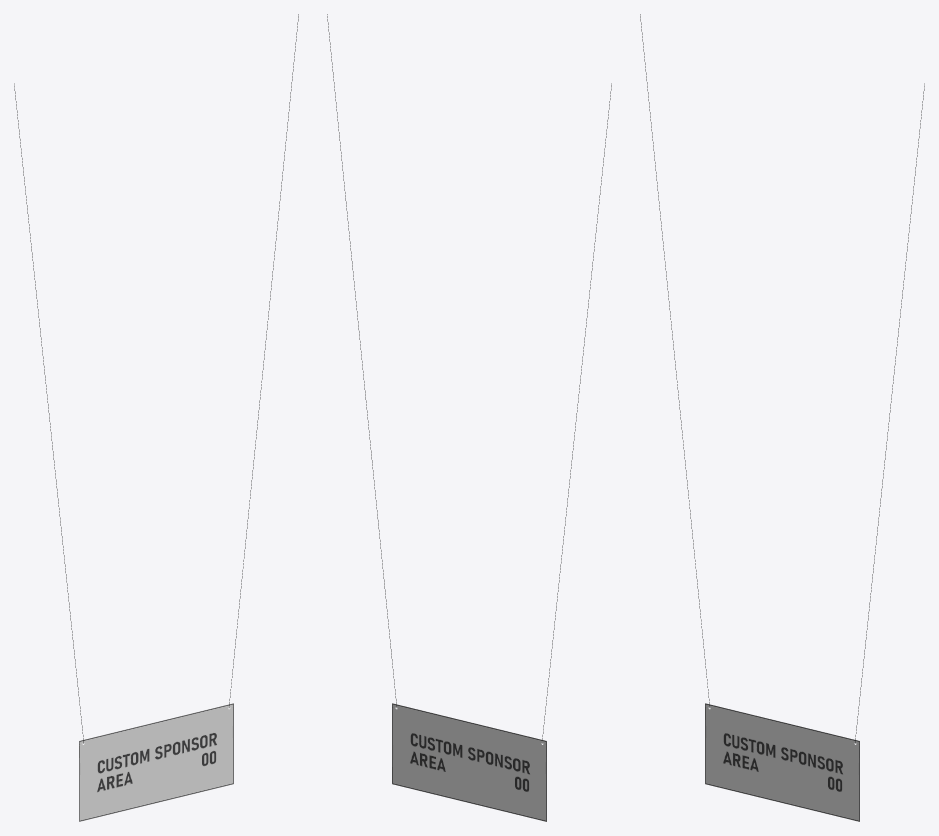
File: sponsor_banner.fbx
3 renders of one model, left to right at view 1: azimuth 30°, elevation 25°; view 2: azimuth 150°, elevation 25°; view 3: azimuth 330°, elevation 25°, orthographic.
Parts seen in each view (by area): view 1: sponsor_banner_type_00; view 2: sponsor_banner_type_00; view 3: sponsor_banner_type_00.
Part boxes in pixels (x1,y1,x2,y2): sponsor_banner_type_00: (14,14,298,821); sponsor_banner_type_00: (327,14,611,821); sponsor_banner_type_00: (640,14,924,821).
Bounding box in the file's own units: 898 × 2271 × 2.33.
